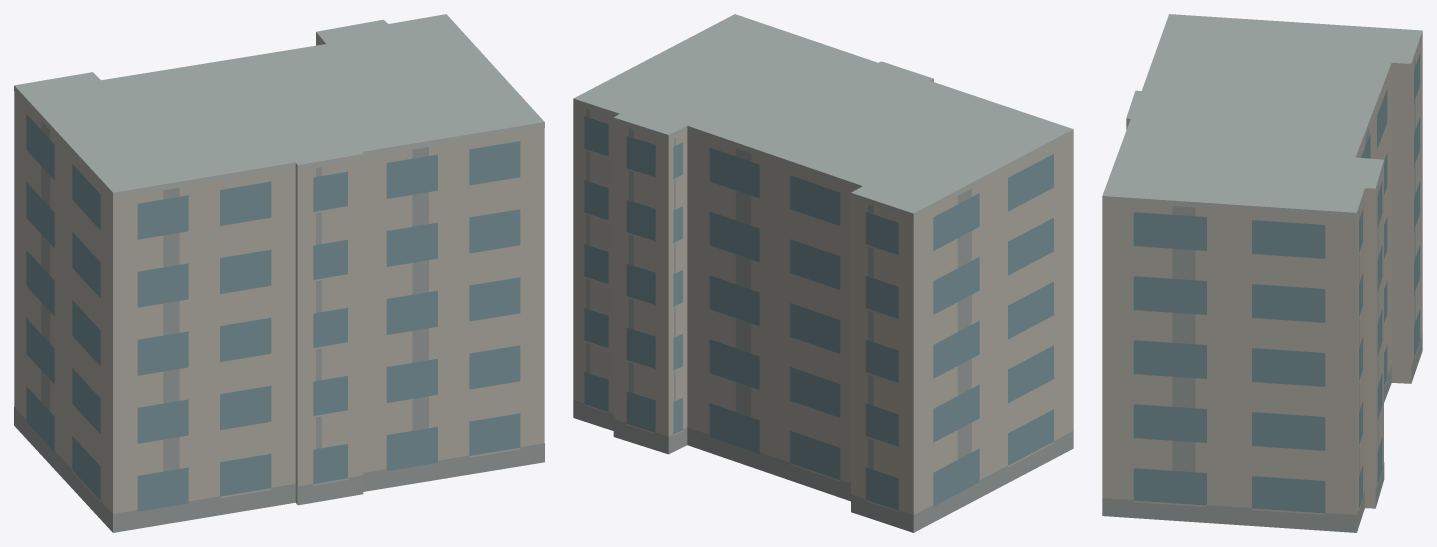
Rendered from survey-upis-32631111.glb.
The picture shows the model from 3 angles, left to right: view 1: azimuth 30°, elevation 25°; view 2: azimuth 150°, elevation 25°; view 3: azimuth 270°, elevation 25°; orthographic projection. The views are drawn at different scales.
Visible parts, largest first — view 1: survey-upis-32631111.tmp; view 2: survey-upis-32631111.tmp; view 3: survey-upis-32631111.tmp.
Part boxes in pixels (<box>): survey-upis-32631111.tmp: <box>14,14,544,532</box>; survey-upis-32631111.tmp: <box>573,14,1073,532</box>; survey-upis-32631111.tmp: <box>1102,14,1422,532</box>.
Bounding box in the file's own units: 18.53 × 13.9 × 12.62.
